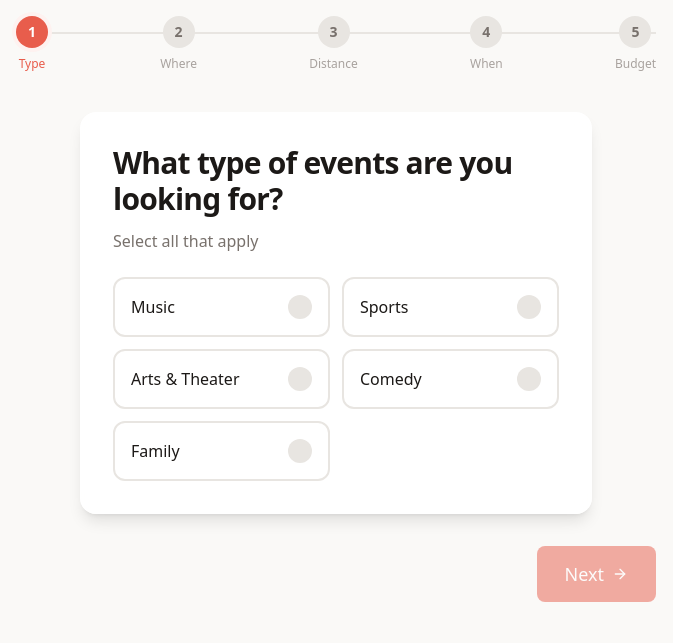
QuestionFlow › navigates to next question when answer is provided
Note: Find an option and click it
What coordinates should you click on to do the following:
click the button "Music"
I would click on:
 (222, 307)
Its box is x1=113 y1=277 x2=330 y2=337.
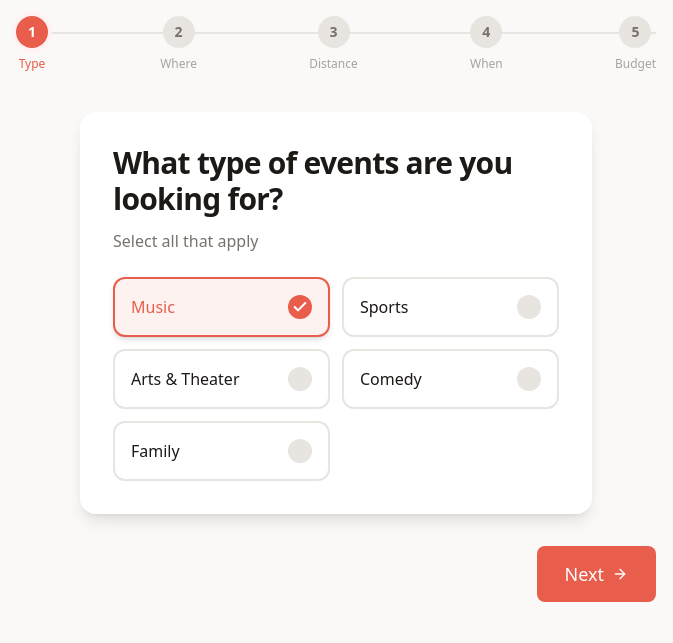
Note: Click Next
What coordinates should you click on to do the following:
click the button "Next"
I would click on:
 (596, 574)
Its box is x1=536 y1=546 x2=656 y2=602.
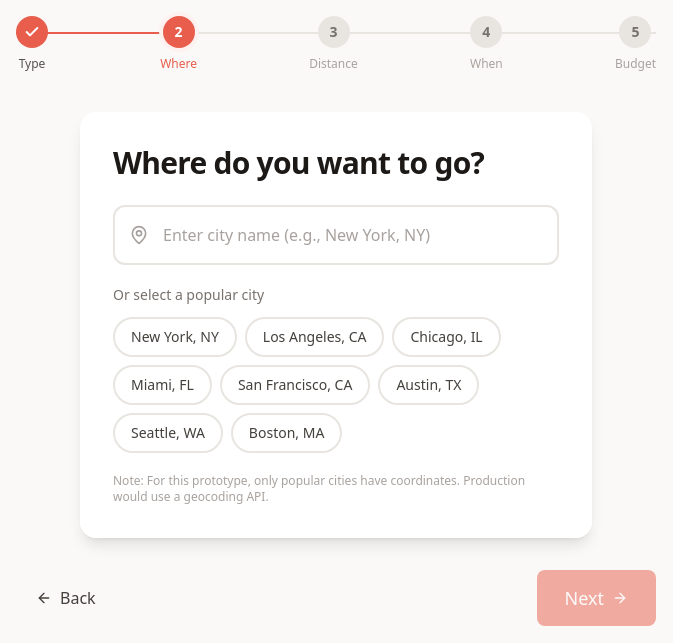
Expected: the heading "Where do you want to go?" is shown, x1=113 y1=142 x2=484 y2=183
